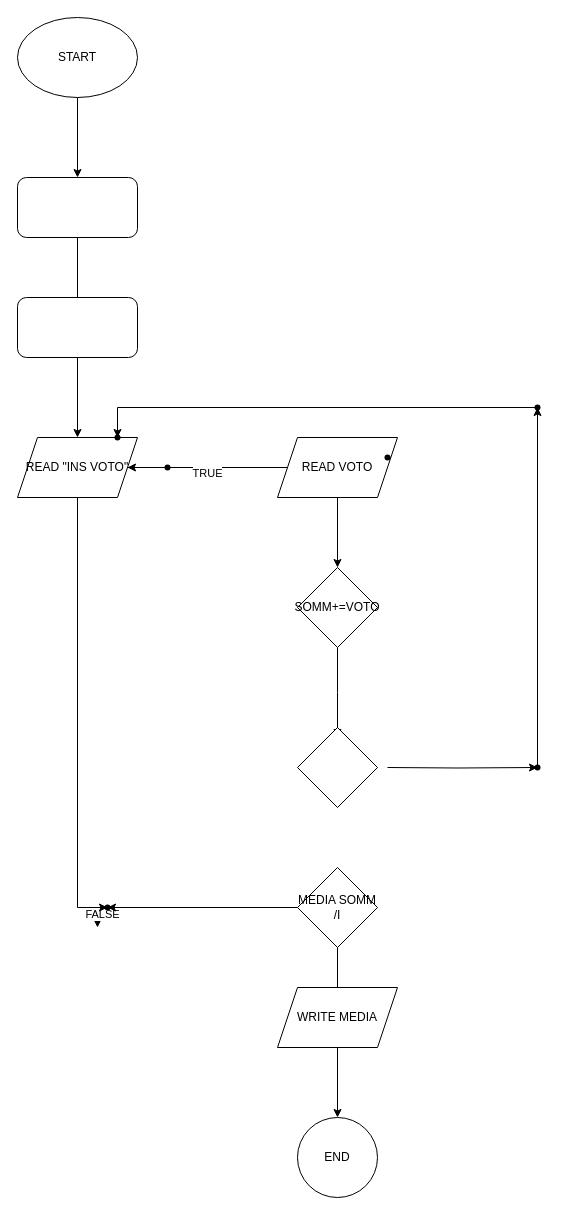
Image size: 565x1215. Some labels were removed from this diagram. The centre of each missing label's shape, as x and y in pixels:
I =1: the point at 77,207
I+=1: the point at 337,767
SOMM =0: the point at 77,327
